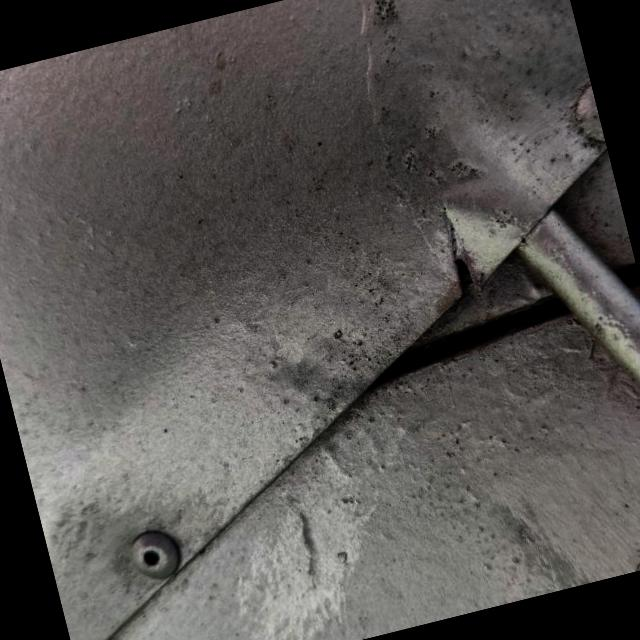crack: (402, 198, 502, 328)
